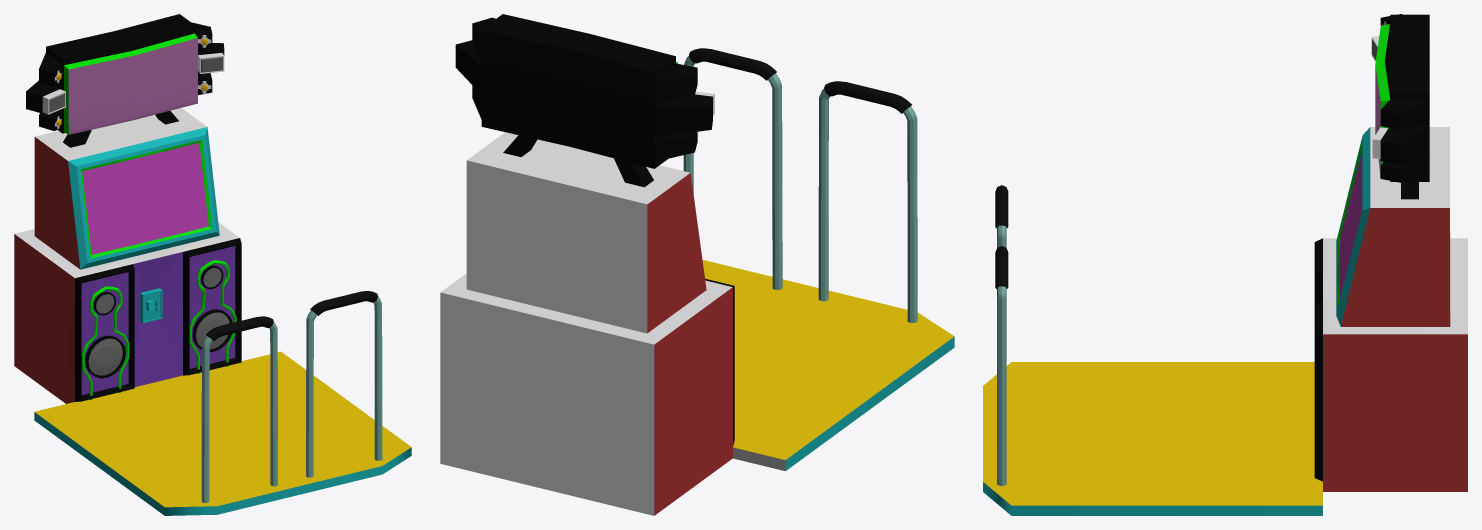
Rendered from dance_machineEXP.fbx.
3 views of the same model, side by side, from view 1: azimuth 30°, elevation 25°; view 2: azimuth 150°, elevation 25°; view 3: azimuth 270°, elevation 25° (orthographic). The views are drawn at different scales.
Parts seen in each view (by area): view 1: group4; view 2: group4; view 3: group4.
Boxes of the visible parts, x1=… form: group4: x1=14, y1=14, x2=411, y2=515; group4: x1=440, y1=14, x2=954, y2=515; group4: x1=983, y1=14, x2=1467, y2=515.
Size of the model in its own units: 150 by 190 by 214.
